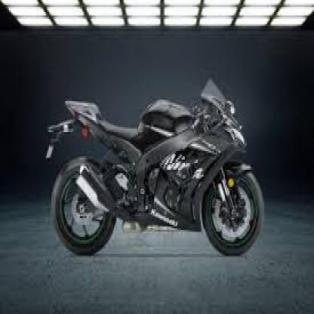Motocicleta: (44, 75, 266, 260)
